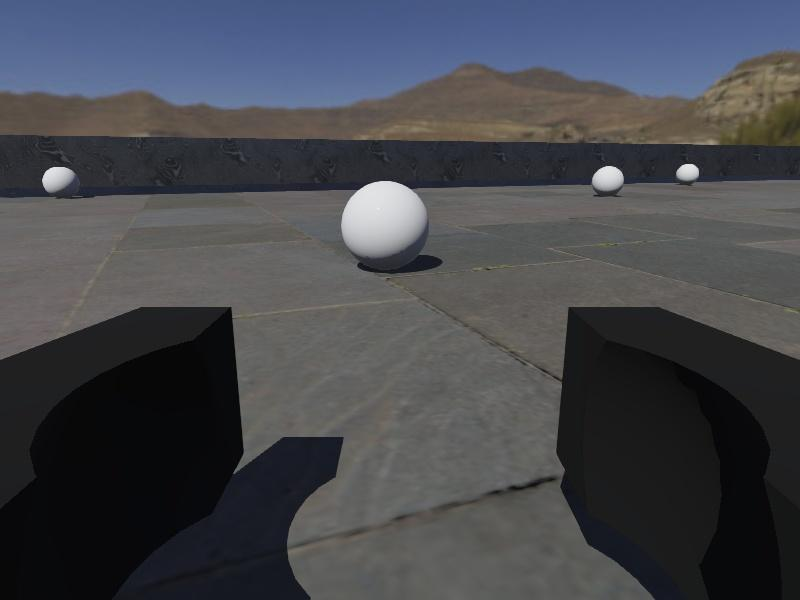white ball: (342, 180, 429, 272), (42, 166, 81, 200), (592, 165, 625, 197), (675, 162, 700, 185)
